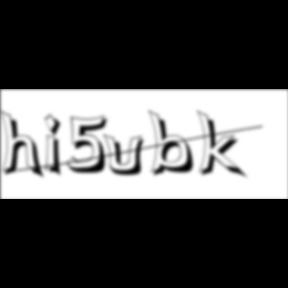5: (66, 114, 114, 176)
b: (147, 109, 200, 179)
h: (0, 108, 48, 182)
i: (44, 112, 68, 180)
k: (197, 108, 250, 181)
u: (103, 132, 151, 178)
